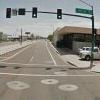Traffic light: (2, 5, 65, 23)
